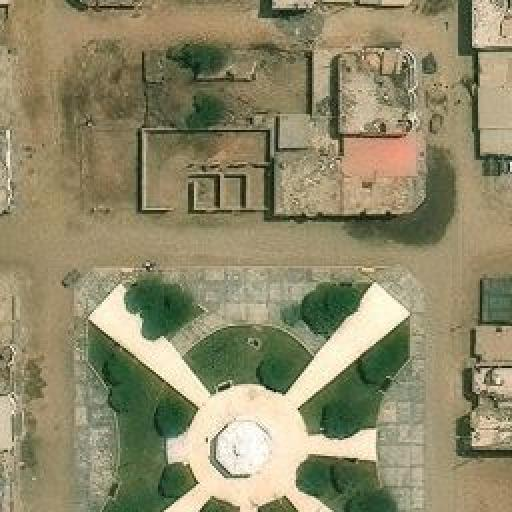manzanas: (71, 263, 427, 510), (128, 48, 428, 217), (465, 277, 510, 456), (475, 0, 510, 176)
